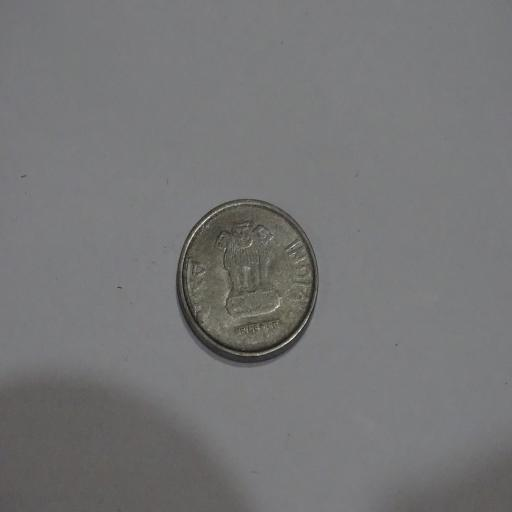rupee1: (176, 198, 318, 359)
